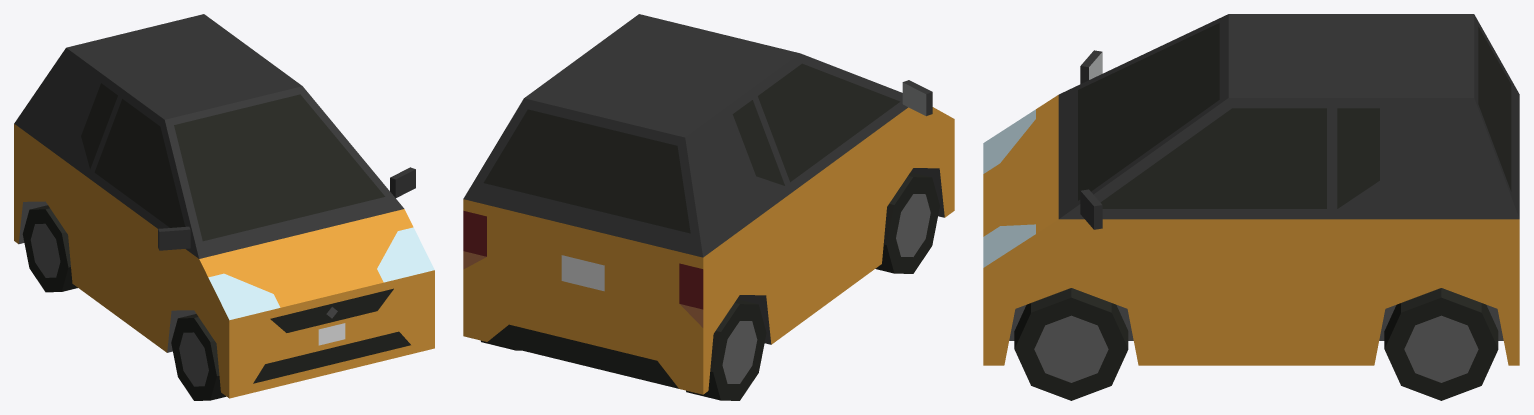
File: Veh_Microcar_Yellow.glb
3 views of the same model, side by side, from view 1: azimuth 30°, elevation 25°; view 2: azimuth 150°, elevation 25°; view 3: azimuth 270°, elevation 25° (orthographic). The views are drawn at different scales.
Parts seen in each view (by area): view 1: Microcar_Green, Wheel_FR, Wheel_RR; view 2: Microcar_Green, Wheel_RR, Wheel_FR; view 3: Microcar_Green, Wheel_FL, Wheel_RL.
Part boxes in pixels (x1,y1,x2,y2): Microcar_Green: (14,14,434,398); Wheel_FR: (171,314,226,400); Wheel_RR: (22,205,77,292); Microcar_Green: (463,14,954,394); Wheel_RR: (686,299,766,400); Wheel_FR: (875,172,939,273); Microcar_Green: (983,14,1519,365); Wheel_FL: (1014,288,1128,400); Wheel_RL: (1384,288,1498,400).
Bounding box in the file's own units: 0.9194 × 0.7766 × 1.34.
Materials: 1 (1 with a texture image).
